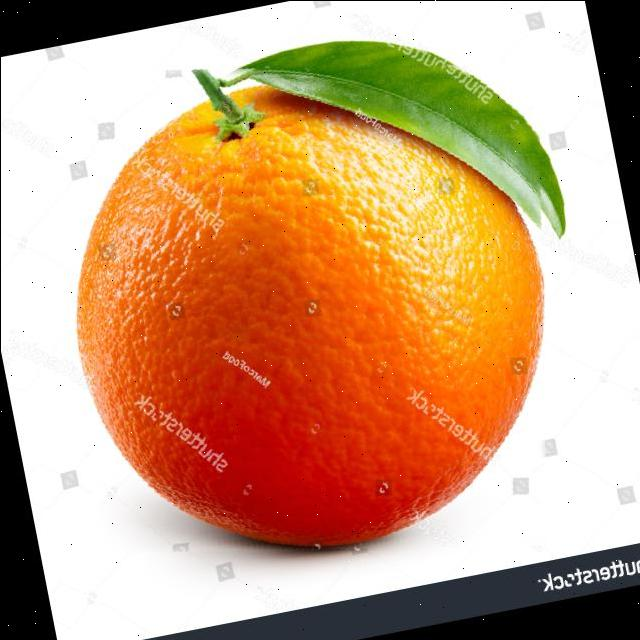Orange: (75, 84, 545, 550)
